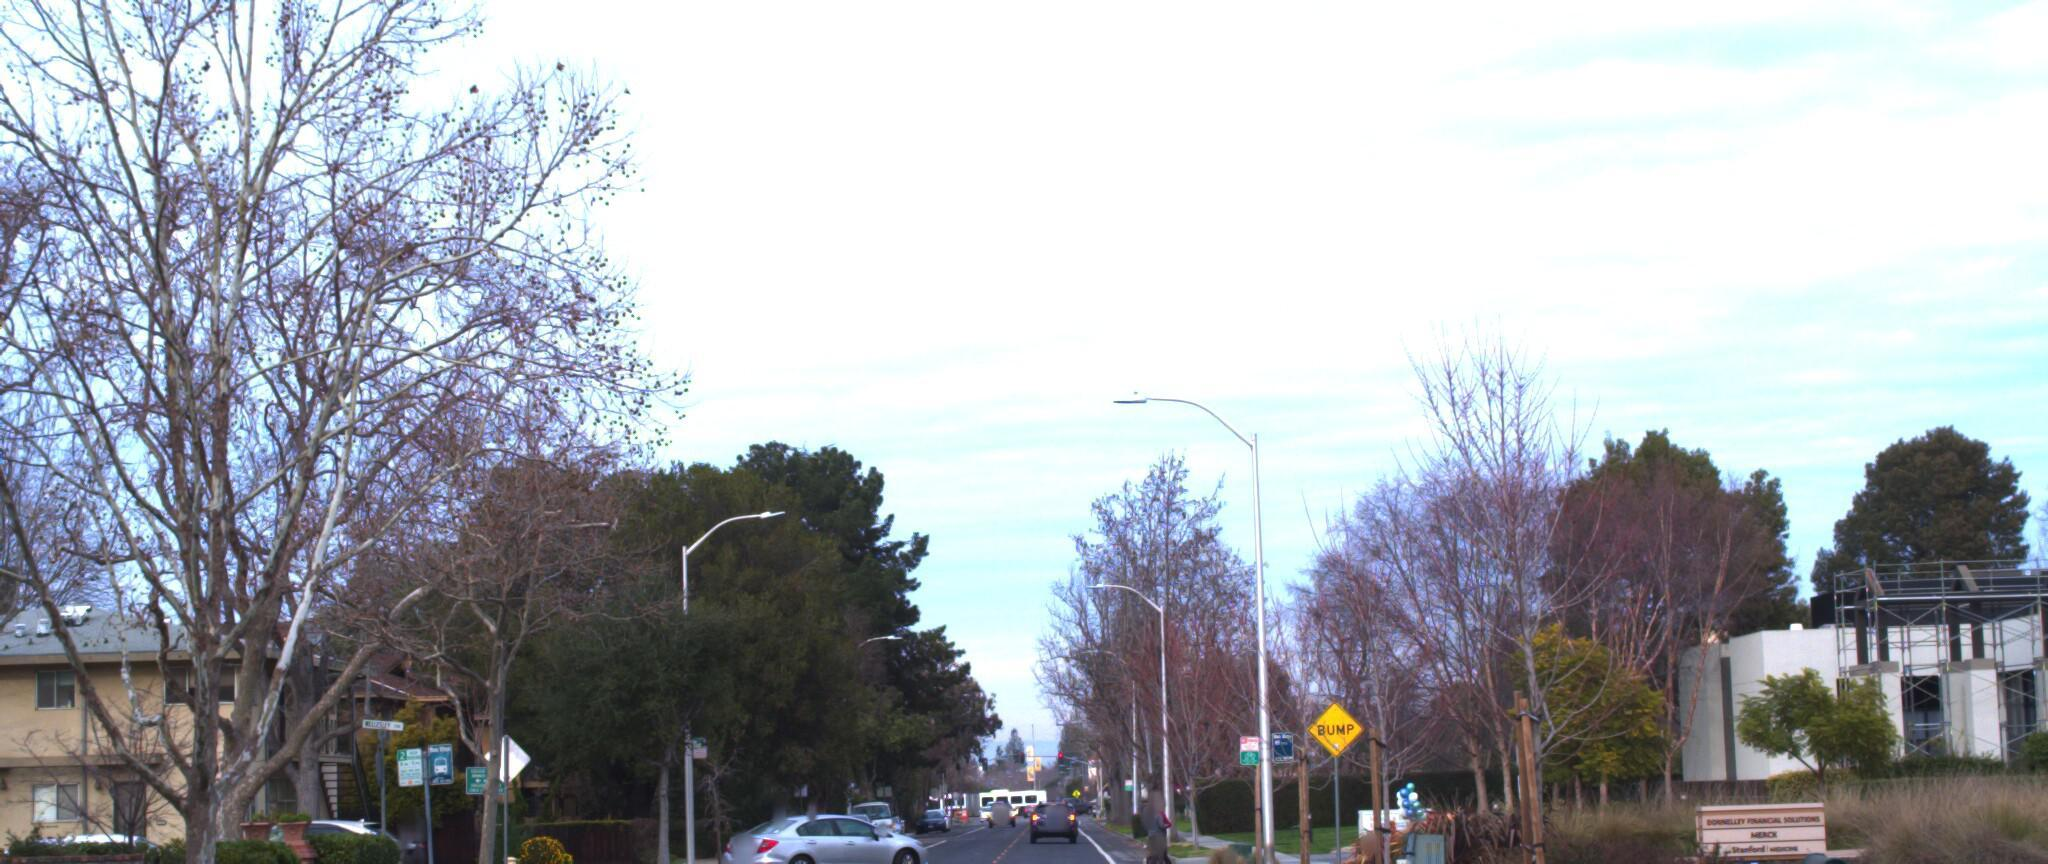car: (701, 796, 927, 864)
